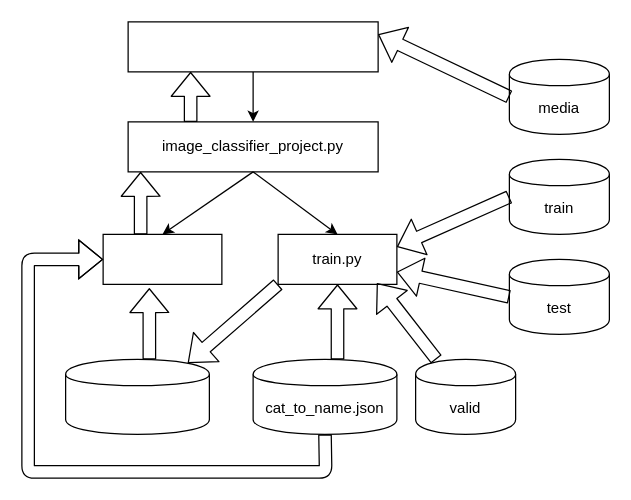
The diagram is 631 pixels wide and 500 high, and some of its shapes have lost their labels. The centre of each missing label's shape, as x and y in pixels:
"checkpoint.pth" belongs at (136,396).
"dash_image_classifier_project.py" belongs at (252,46).
"predict.py" belongs at (162,258).
